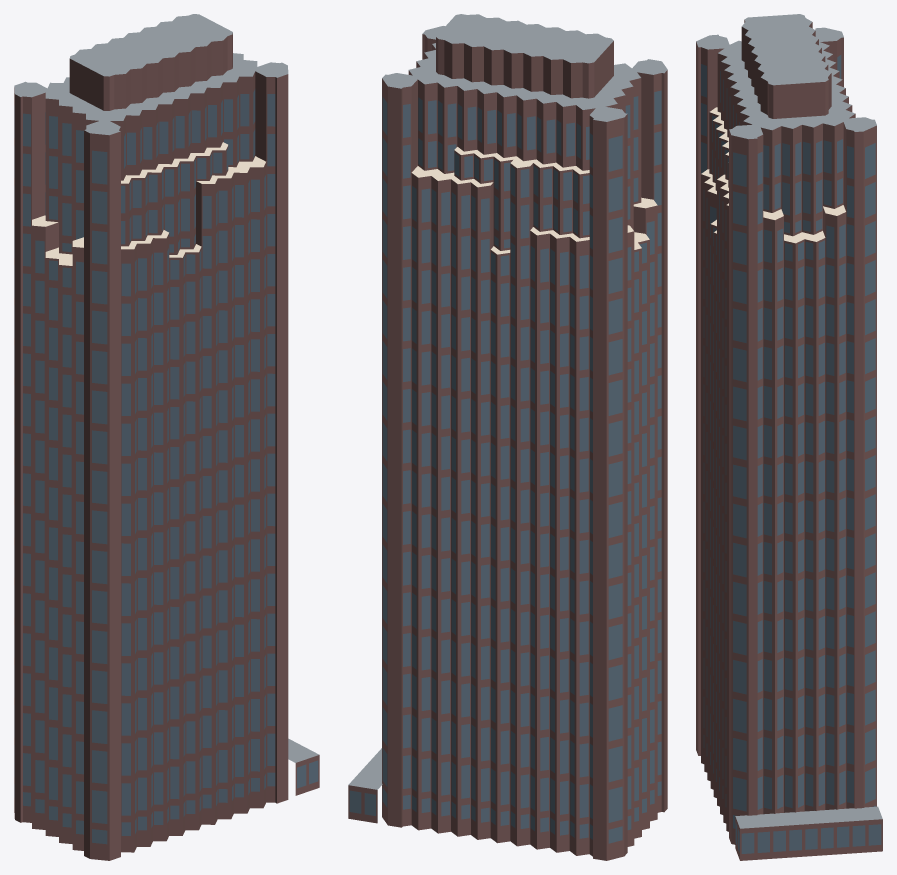
Rendered from detail.glb.
The picture shows the model from 3 angles, left to right: view 1: azimuth 30°, elevation 25°; view 2: azimuth 150°, elevation 25°; view 3: azimuth 270°, elevation 25°; orthographic projection. The views are drawn at different scales.
Parts seen in each view (by area): view 1: 555-california-street; view 2: 555-california-street; view 3: 555-california-street.
Part boxes in pixels (box(x1,y1,x2,y2)): 555-california-street: box(14, 14, 319, 860); 555-california-street: box(348, 14, 667, 860); 555-california-street: box(696, 14, 882, 860).
Size of the model in its own units: 87.08 by 242 by 55.15.
